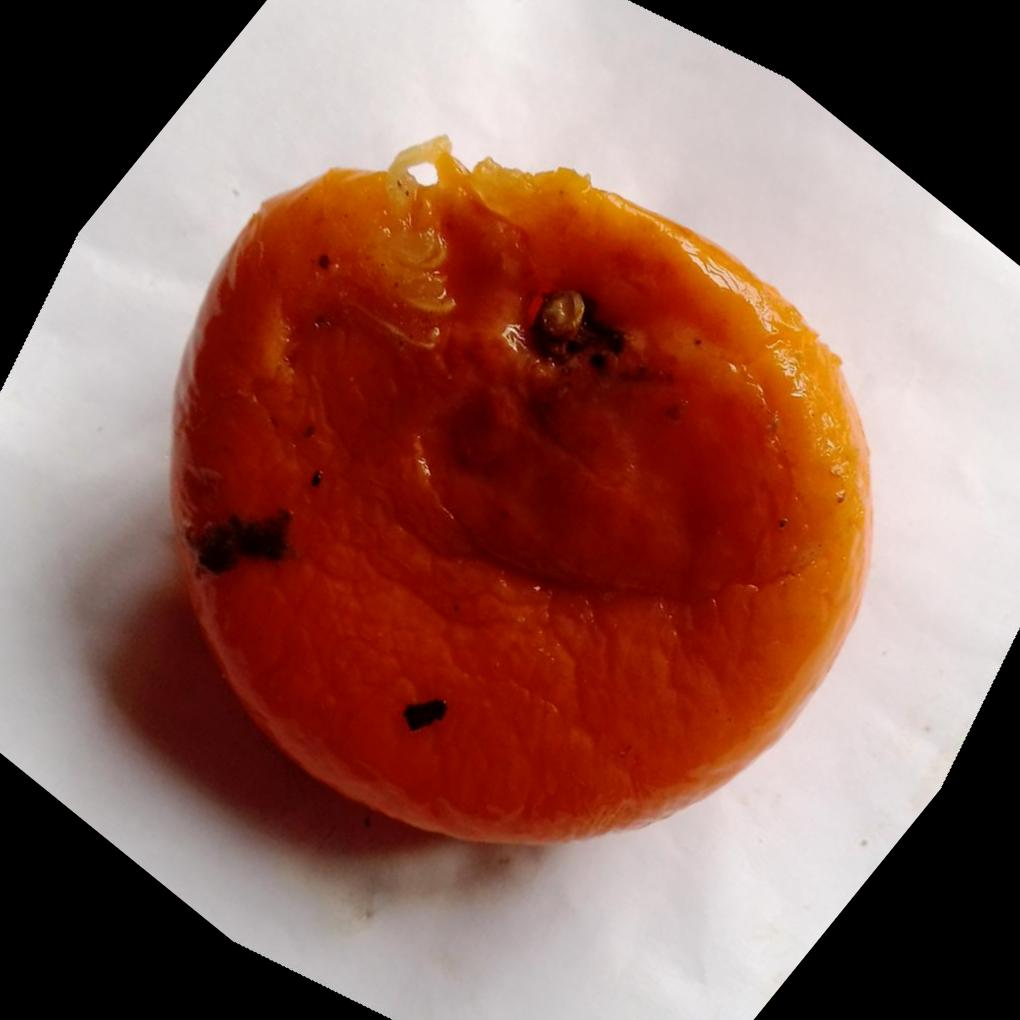FreshOrange: (163, 136, 873, 851)
